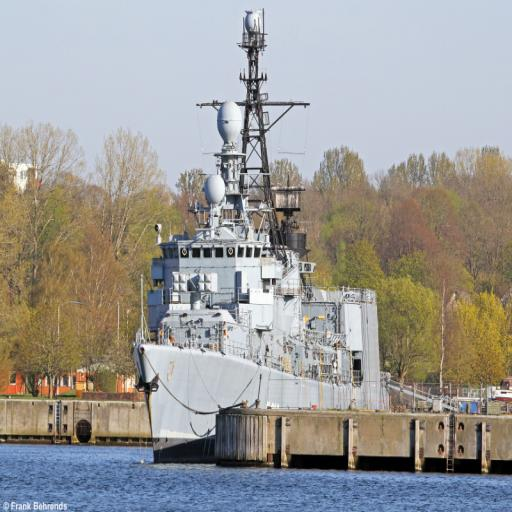Fragata: (129, 2, 386, 467)
